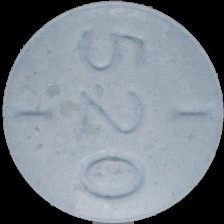0527-1349: (0, 0, 224, 224)
